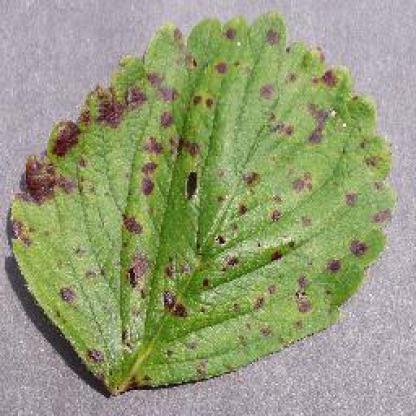leaf scorch: (9, 8, 402, 397)
